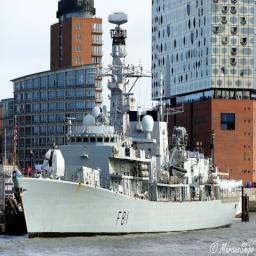Fragata: (13, 11, 245, 242)
